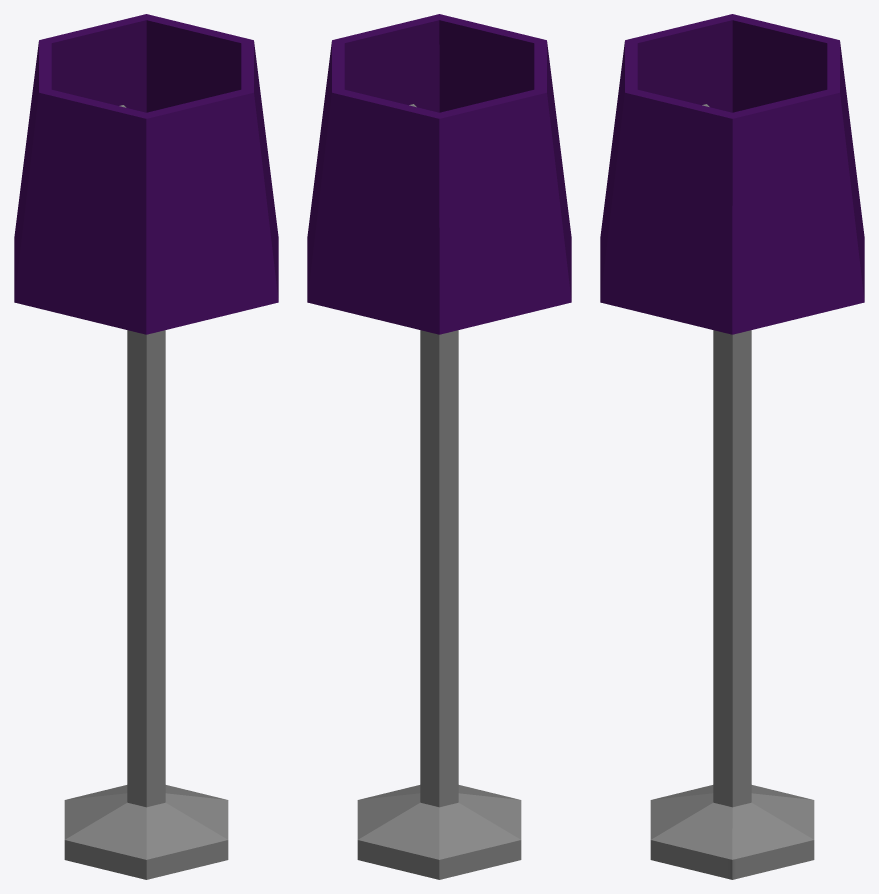
Rendered from jalkalamppu_purple.FBX.
3 views of the same model, side by side, from view 1: azimuth 30°, elevation 25°; view 2: azimuth 150°, elevation 25°; view 3: azimuth 270°, elevation 25° (orthographic).
Visible parts, largest first — view 1: jalkalamppu_purple; view 2: jalkalamppu_purple; view 3: jalkalamppu_purple.
Boxes of the visible parts, bbox=[...] form: jalkalamppu_purple: bbox=[14, 14, 278, 879]; jalkalamppu_purple: bbox=[307, 14, 571, 879]; jalkalamppu_purple: bbox=[600, 14, 864, 879].
Bounding box in the file's own units: 83.91 × 235 × 72.67.
